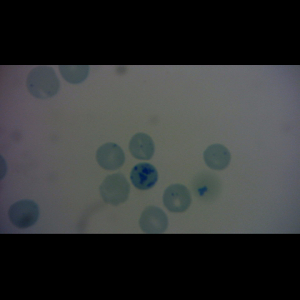aggregate reticulocyte: (129, 162, 158, 191)
erythrocyte: (98, 172, 130, 206), (7, 198, 40, 228), (137, 205, 168, 234)
punctate reticulocyte: (26, 65, 61, 100), (161, 183, 192, 213), (95, 142, 127, 170), (202, 143, 232, 172), (127, 133, 155, 161)
